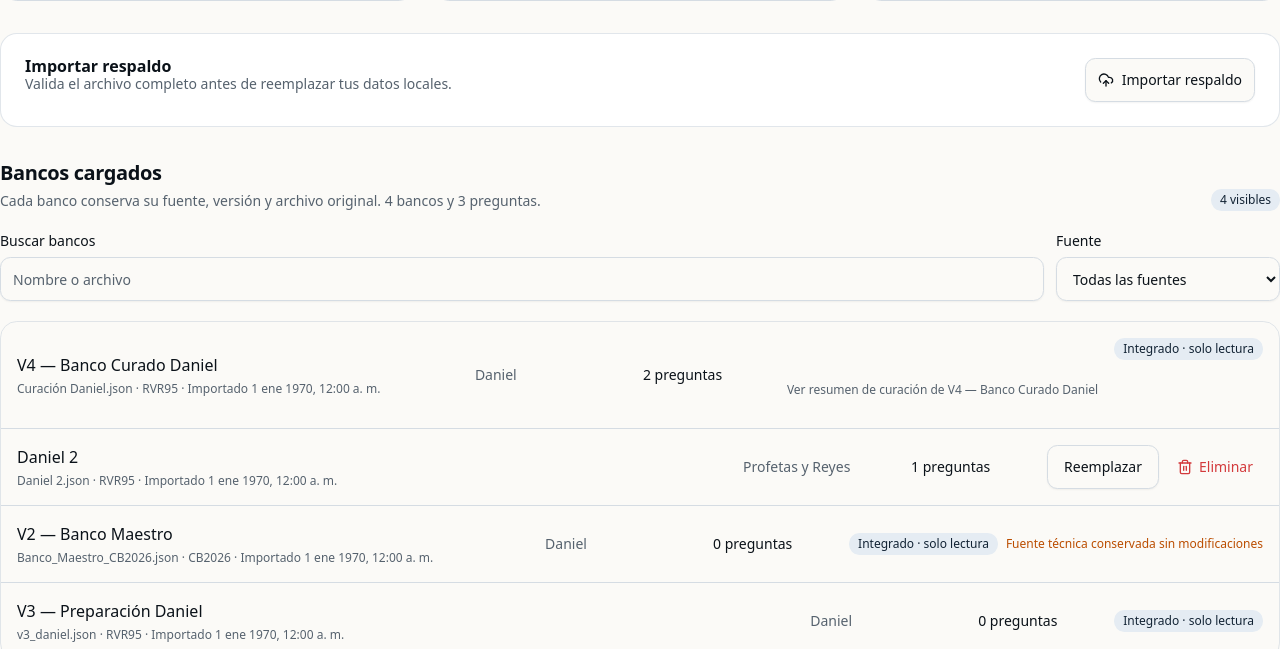
Test: gestor de bancos › mantiene V4 como fuente solo lectura con su resumen expandible
(page scrolled)
Click the heading "Ver resumen de curación de V4 — Banco Curado Daniel" at point(943, 390), box [787,381,1098,398]
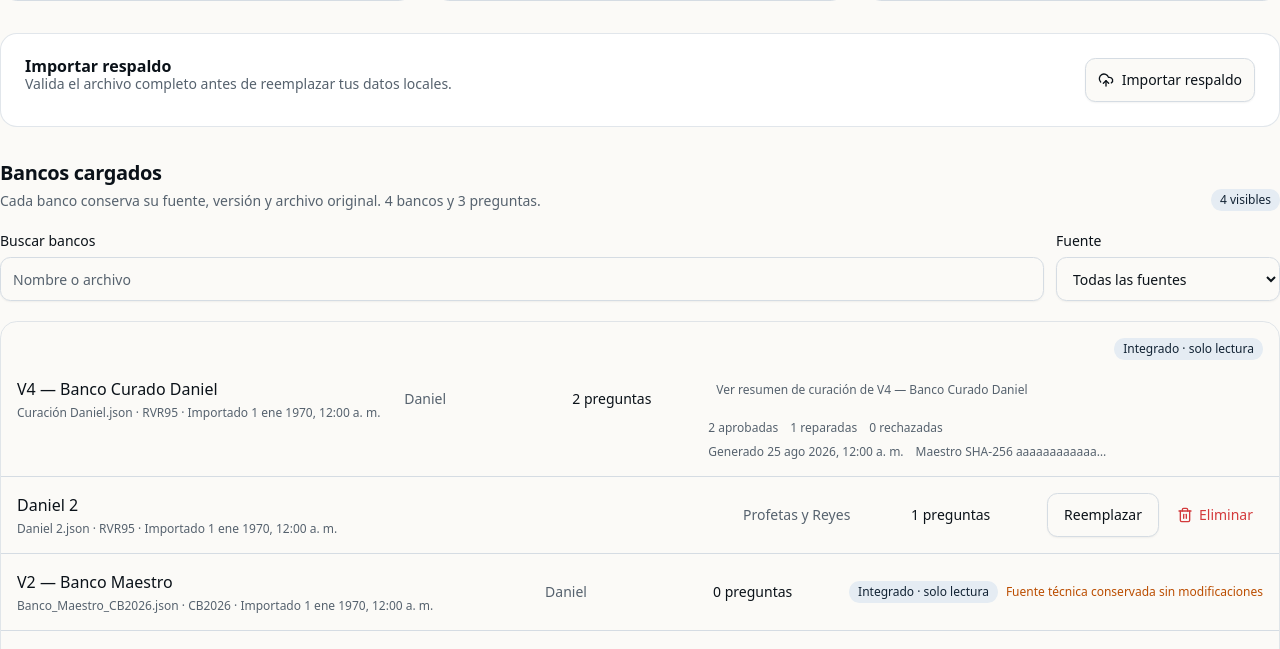
Check: the element named "Resumen de curación V4" shows "2 aprobadas", box [708,419,943,436]
Check: the element named "Metadatos de generación V4" shows "Maestro SHA-256 aaaaaaaaaaaa…", box [708,443,1106,460]
